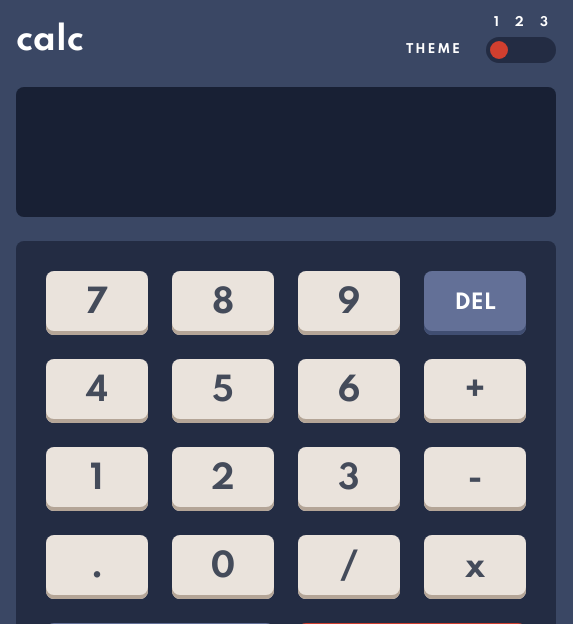
Test: App › allows inputting a multi-character number
The image size is (573, 624).
Click the button "1" at (97, 479), box [46,447,148,511]
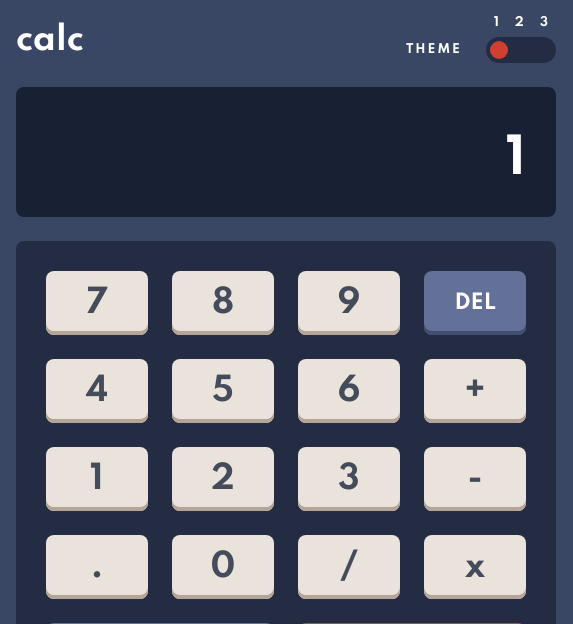
Click the button "2" at (223, 479), box [172,447,274,511]
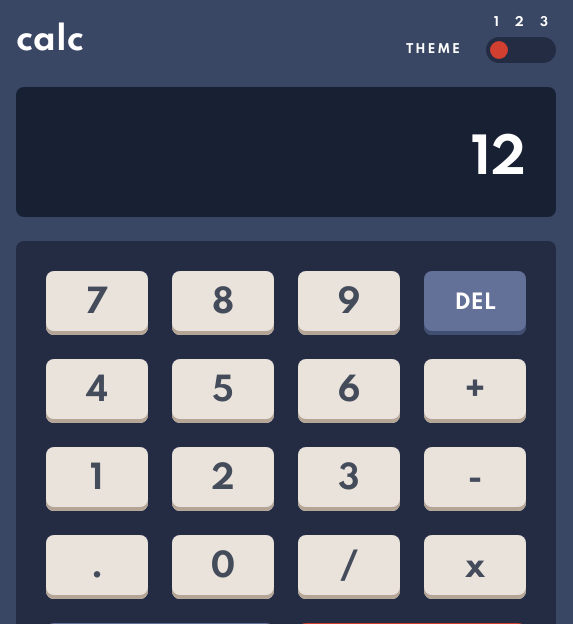
Click the button "3" at (349, 479), box [298,447,400,511]
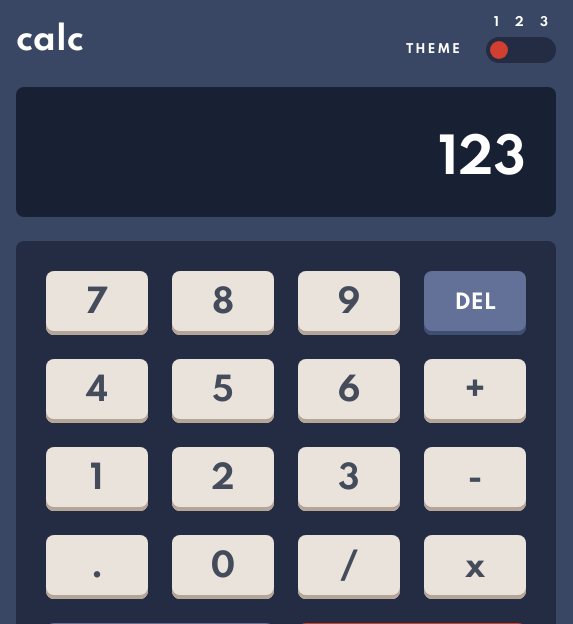
expect the message reads "123": met, box [439,133,526,186]
